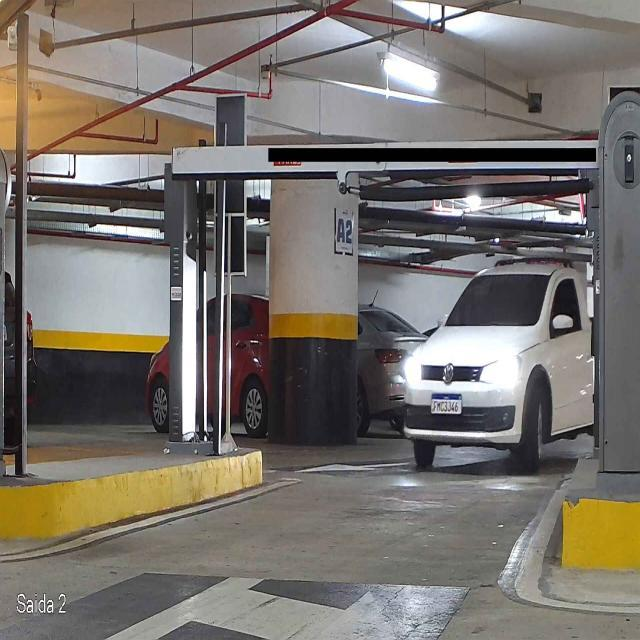mercosul_plate: (430, 393, 463, 416)
